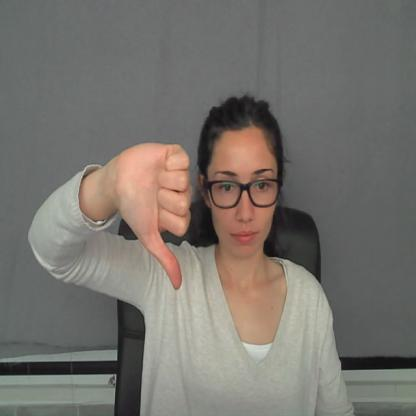thumbs-down: (129, 141, 201, 290)
